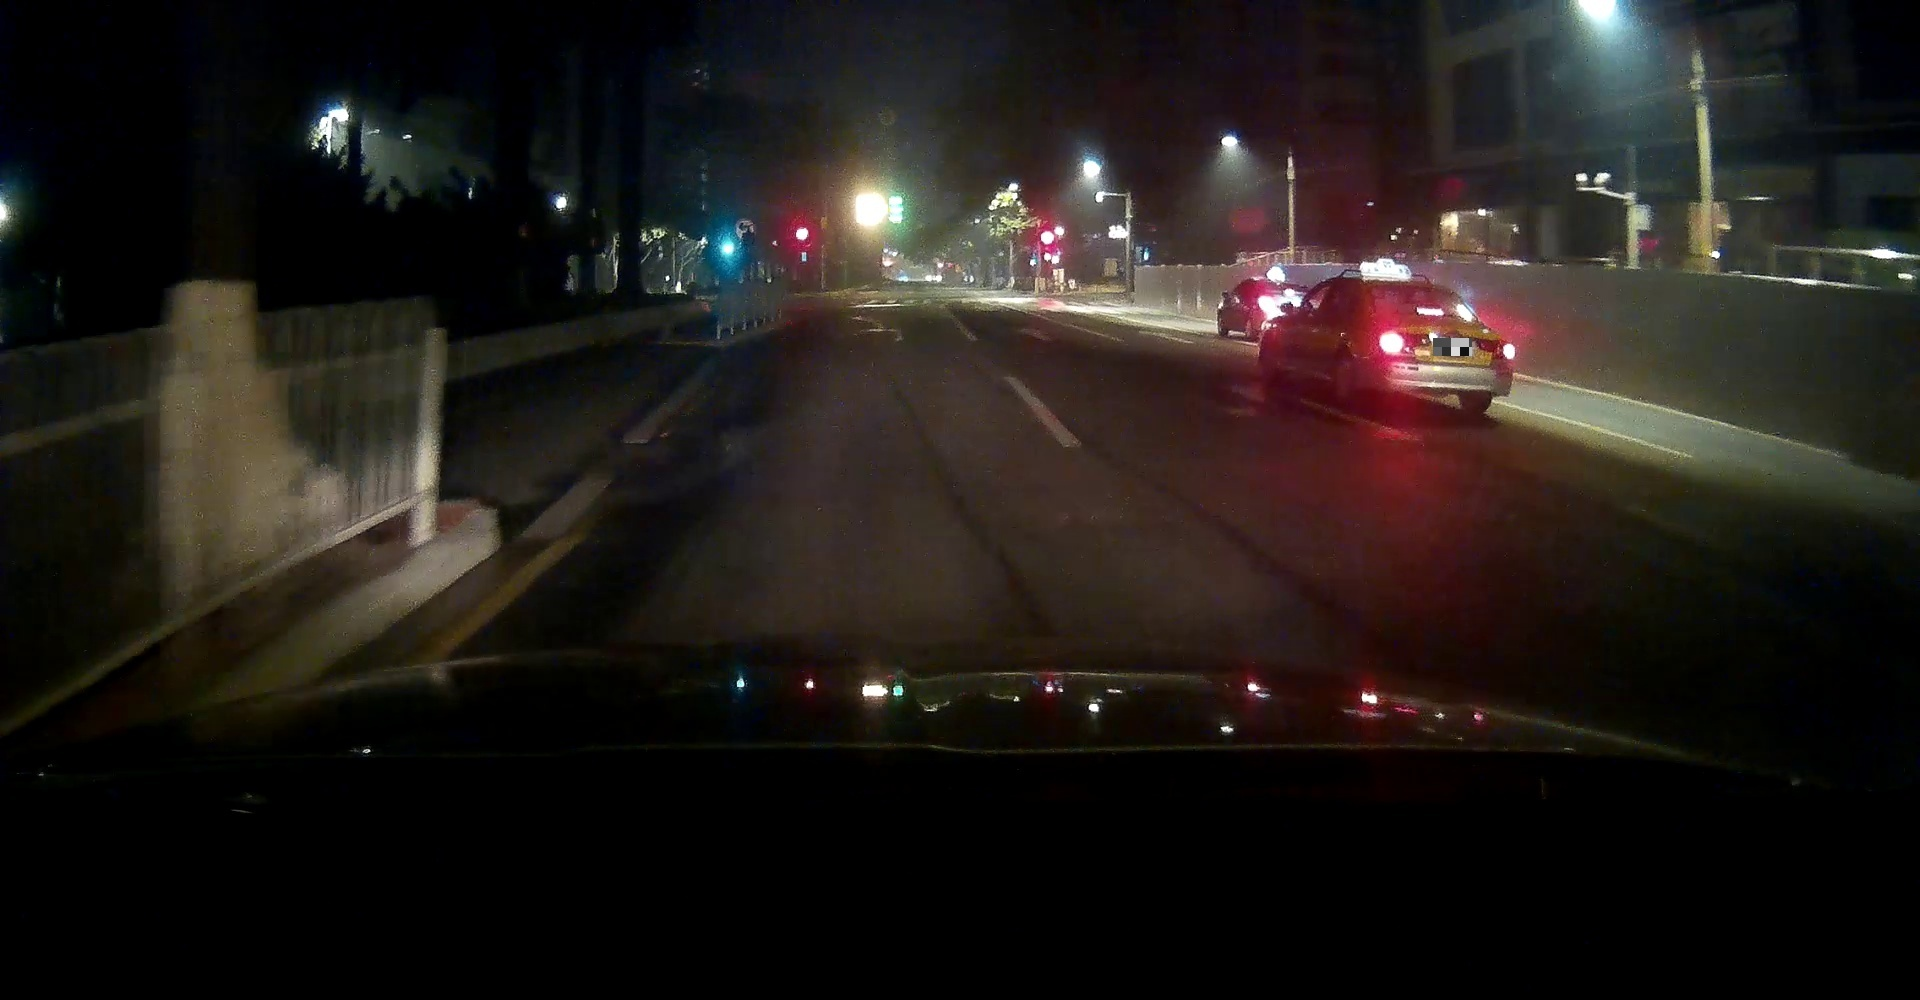L_light: (1377, 331, 1427, 357)
R_light: (1476, 338, 1516, 360)
T_light: (1413, 306, 1445, 317)
night-no: (1357, 279, 1516, 418)
plate_1: (1432, 338, 1472, 357)
